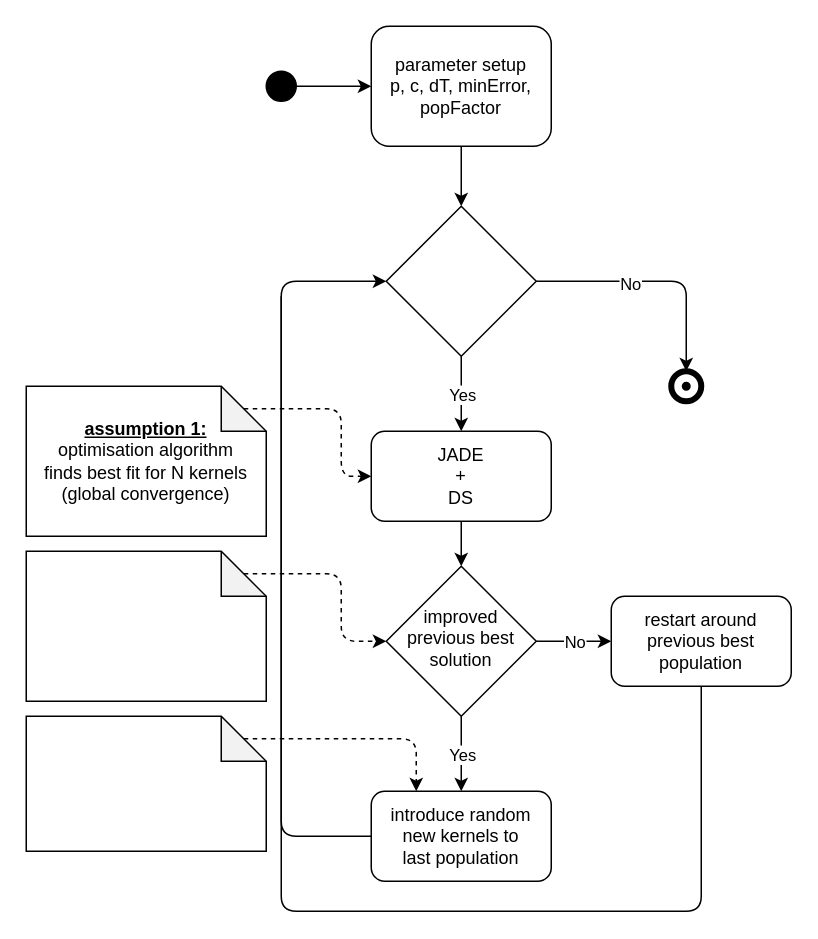
Image size: 818x939. Some labels were removed from this diagram. Here are the shapes that lost their labels. From the top down, the centre of each, then its label:
At [460,280]: "FEcounter < maxFE".
At [145,625]: "assumption 2: solution quality increases consistently with number of kernels".
At [145,783]: "assumption 3: solution can be decomposed in independent kernels".
